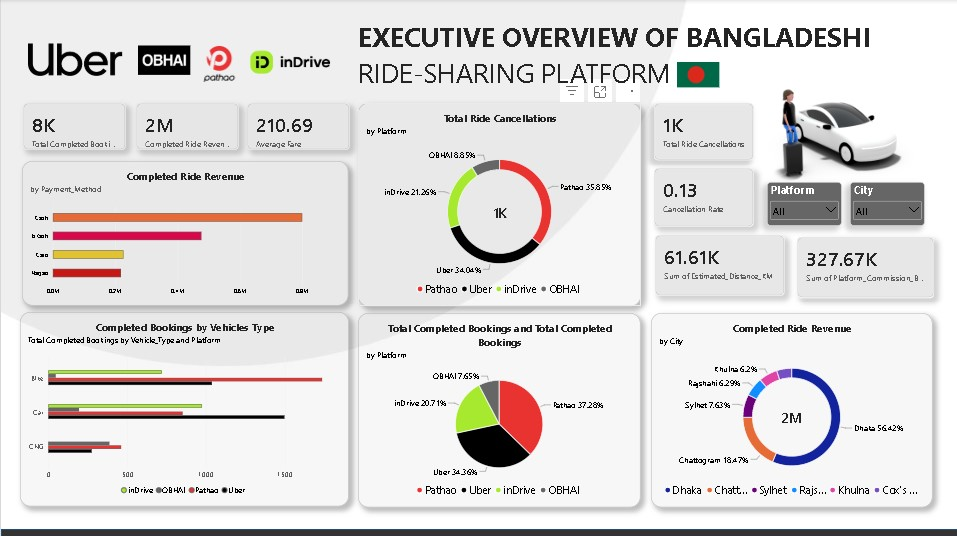

What the dashboard file says about the page in this screenshot:
{"tool":"powerbi","page":{"name":"Page 1","canvas":[1920,1080],"ordinal":0},"visuals":[{"type":"pieChart","fields":{"Category":["Rides.Platform","Calendar.Month_Name"],"Y":["KPI_Guide.Completed Bookings","KPI_Guide.Completed Bookings"]},"box":[717.5,630,566.7,390],"z":0},{"type":"donutChart","fields":{"Category":["City_Dim.City"],"Y":["KPI_Guide.Completed Ride Revenue"]},"box":[1305,630,565,390],"z":1000},{"type":"shape","box":[0,1063.3,1920,18],"z":2000},{"type":"clusteredBarChart","title":"Completed Bookings by Vehicles Type","fields":{"Category":["Rides.Vehicle_Type"],"Series":["Rides.Platform"],"Y":["KPI_Guide.Completed Bookings"]},"box":[37.5,627.5,660,390],"z":3000},{"type":"image","box":[1520,104,335,307.5],"z":4000},{"type":"image","box":[55,83.1,188.5,78.8],"z":5000},{"type":"cardVisual","fields":{"Data":["KPI_Guide.Completed Bookings"]},"box":[43.3,208.3,206.1,94.5],"z":6000,"group":"g1"},{"type":"barChart","fields":{"Category":["Rides.Payment_Method"],"Y":["KPI_Guide.Completed Ride Revenue"]},"box":[42.5,325,655,290],"z":6000},{"type":"image","box":[327.5,90,222.5,80],"z":7000},{"type":"cardVisual","fields":{"Data":["KPI_Guide.Completed Ride Revenue"]},"box":[269.8,208.3,206.1,94.5],"z":7000,"group":"g1"},{"type":"cardVisual","fields":{"Data":["KPI_Guide.Total Ride Cancellations"]},"box":[1311.7,208.3,200,115],"z":8000},{"type":"image","box":[455,70,250,112.5],"z":9000},{"type":"cardVisual","fields":{"Data":["KPI_Guide.Average Fare"]},"box":[492.2,208.8,206.1,94.5],"z":9000,"group":"g1"},{"type":"cardVisual","fields":{"Data":["Calendar.Cancellation Rate"]},"box":[1311.7,338.3,200,118.3],"z":10000},{"type":"cardVisual","fields":{"Data":["Sum(Rides.Estimated_Distance_KM)"]},"box":[1312,474,260,122],"z":11000},{"type":"image","box":[275,90,105,65],"z":12000},{"type":"cardVisual","fields":{"Data":["Sum(Rides.Platform_Commission_BDT)"]},"box":[1597,477.1,275,122.9],"z":13000},{"type":"donutChart","fields":{"Category":["Rides.Platform"],"Y":["KPI_Guide.Total Ride Cancellations"]},"box":[716.7,208.3,568.3,408.3],"z":14000},{"type":"textbox","box":[716.7,40,1156.7,146.7],"z":15000},{"type":"group","id":"g1","title":"Group 2","box":[43.3,208.3,655,95],"z":16000},{"type":"image","box":[1356.4,117.7,84.6,66.1],"z":17000},{"type":"slicer","fields":{"Values":["Rides.Platform"]},"box":[1537.5,367.5,150,87.5],"z":18000},{"type":"slicer","fields":{"Values":["City_Dim.City"]},"box":[1705,367.5,150,87.5],"z":19000}]}

Visuals, with their boxes in screenshot pixels (x1, y1, x2, y2), scaled from the page's 1920x1080 canvas onto the 957x536 screenshot:
pieChart - Rides.Platform x Calendar.Month_Name: box=[358, 313, 640, 506]
donutChart - City_Dim.City x KPI_Guide.Completed Ride Revenue: box=[650, 313, 932, 506]
shape: box=[0, 528, 956, 535]
"Completed Bookings by Vehicles Type" clusteredBarChart: box=[19, 311, 348, 505]
image: box=[758, 52, 925, 204]
image: box=[27, 41, 121, 80]
cardVisual - KPI_Guide.Completed Bookings: box=[22, 103, 124, 150]
barChart - Rides.Payment_Method x KPI_Guide.Completed Ride Revenue: box=[21, 161, 348, 305]
image: box=[163, 45, 274, 84]
cardVisual - KPI_Guide.Completed Ride Revenue: box=[134, 103, 237, 150]
cardVisual - KPI_Guide.Total Ride Cancellations: box=[654, 103, 753, 160]
image: box=[227, 35, 351, 91]
cardVisual - KPI_Guide.Average Fare: box=[245, 104, 348, 151]
cardVisual - Calendar.Cancellation Rate: box=[654, 168, 753, 227]
cardVisual - Sum(Rides.Estimated_Distance_KM): box=[654, 235, 784, 296]
image: box=[137, 45, 189, 77]
cardVisual - Sum(Rides.Platform_Commission_BDT): box=[796, 237, 933, 298]
donutChart - Rides.Platform x KPI_Guide.Total Ride Cancellations: box=[357, 103, 640, 306]
textbox: box=[357, 20, 934, 93]
"Group 2" group: box=[22, 103, 348, 151]
image: box=[676, 58, 718, 91]
slicer - Rides.Platform: box=[766, 182, 841, 226]
slicer - City_Dim.City: box=[850, 182, 925, 226]
